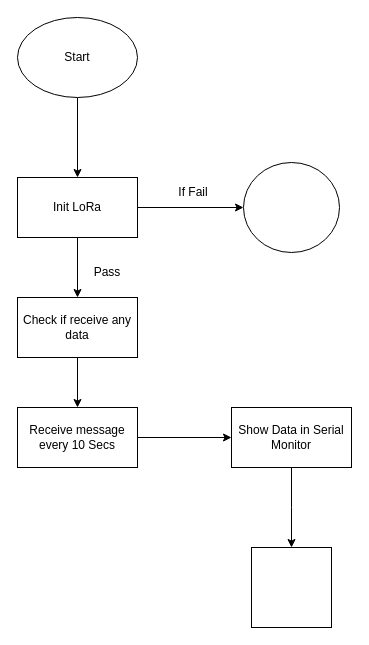
Some shapes in this 369 by 645 pixel diagram are drawn without their labels. The centre of each missing label's shape, as x and y in pixels:
End: the point at 291,587
Try again for 3 Time: the point at 291,207
